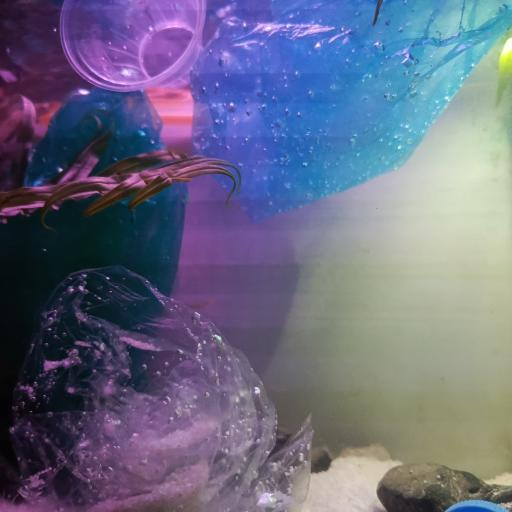bottle_cap: (441, 501, 508, 512)
plastic_bag: (0, 265, 315, 512), (187, 0, 512, 222), (0, 87, 186, 384)
plastic_cup: (59, 1, 207, 91)
plastic_straw: (41, 106, 189, 132)
